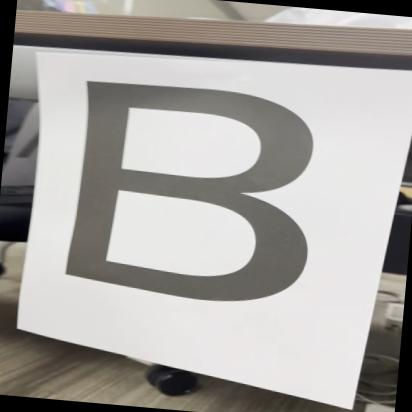seat: (40, 77, 336, 322)
